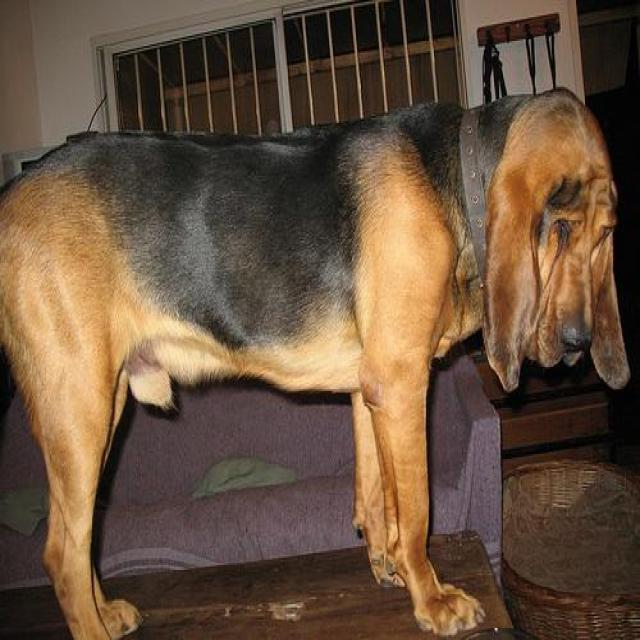bloodhound: (2, 84, 630, 636)
